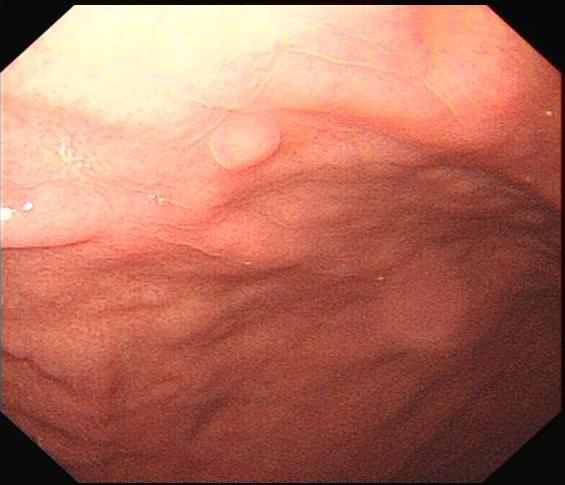Polyp: (202, 105, 296, 179)
